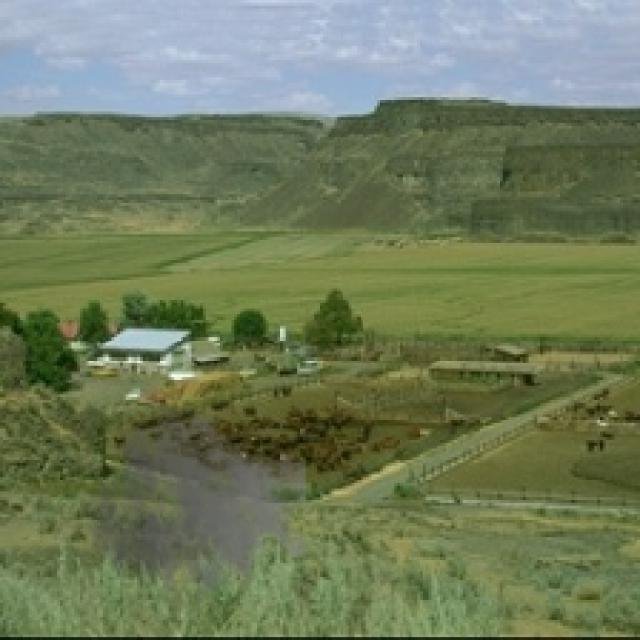Smoke: (86, 402, 306, 618)
